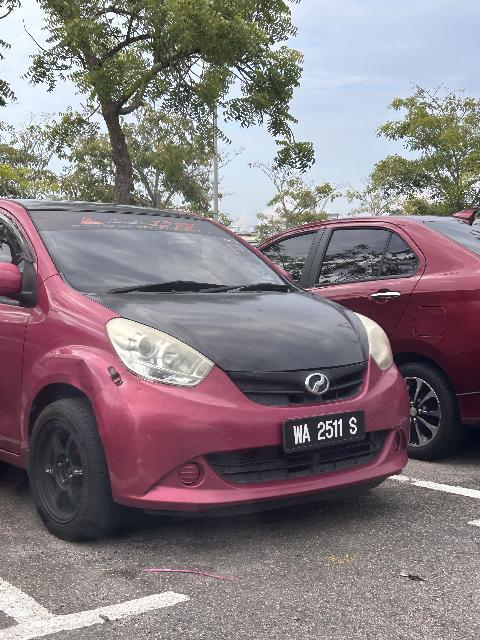License_Plate: (283, 408, 367, 458)
WA2511S: (283, 408, 367, 458)
car: (1, 195, 437, 544), (251, 204, 480, 465)
